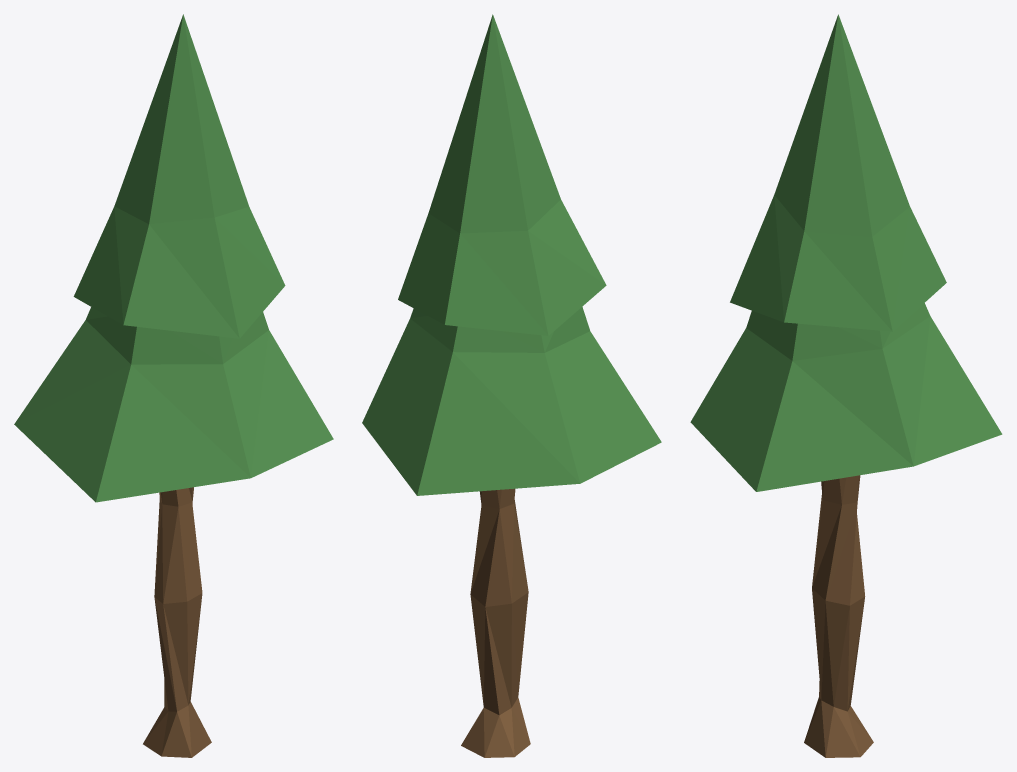
The model's file is tree3d-026.glb.
3 views of the same model, side by side, from view 1: azimuth 30°, elevation 25°; view 2: azimuth 150°, elevation 25°; view 3: azimuth 270°, elevation 25° (orthographic).
Visible parts, largest first — view 1: tree3d-026; view 2: tree3d-026; view 3: tree3d-026.
Boxes of the visible parts, left/top/right/bottom form: tree3d-026: left=14, top=14, right=333, bottom=757; tree3d-026: left=362, top=14, right=661, bottom=757; tree3d-026: left=690, top=14, right=1002, bottom=757.
Bounding box in the file's own units: 0.3417 × 1 × 0.3859.
